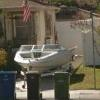Boat: (11, 35, 83, 75)
